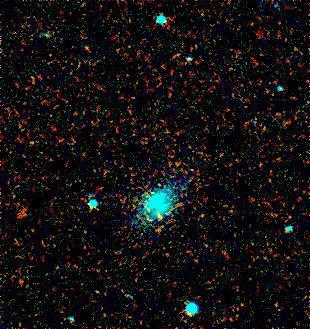star: (143, 199, 173, 229)
